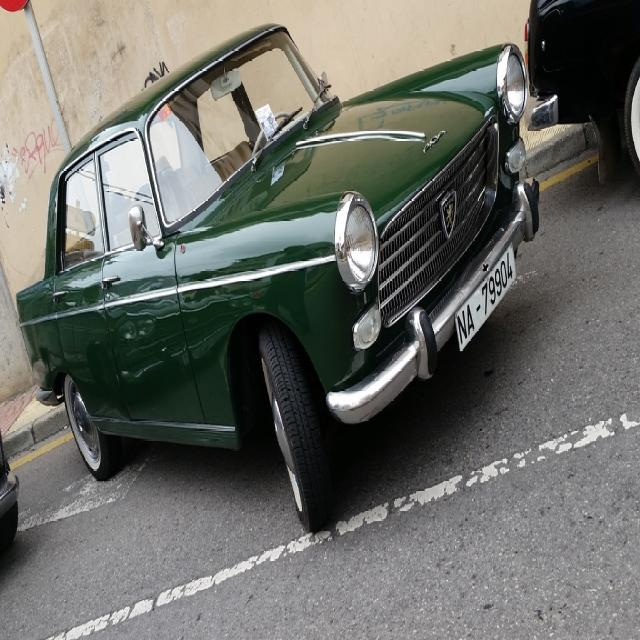car: (14, 19, 541, 528)
